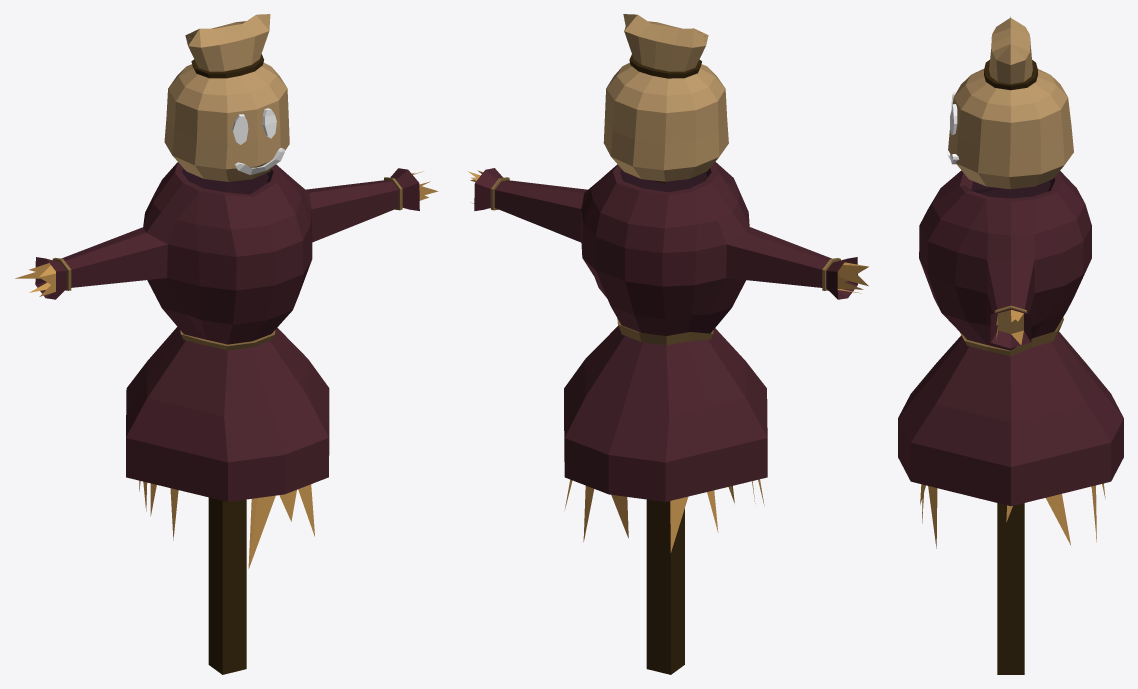
File: ScareCrowWilma.fbx
3 views of the same model, side by side, from view 1: azimuth 30°, elevation 25°; view 2: azimuth 150°, elevation 25°; view 3: azimuth 270°, elevation 25° (orthographic).
Parts seen in each view (by area): view 1: ScarecrowWilma; view 2: ScarecrowWilma; view 3: ScarecrowWilma.
Boxes of the visible parts, x1,y1,x2,y2 form: ScarecrowWilma: (15,14,438,674); ScarecrowWilma: (468,14,868,674); ScarecrowWilma: (898,16,1123,674).
Bounding box in the file's own units: 1.55 × 2.33 × 0.747.
